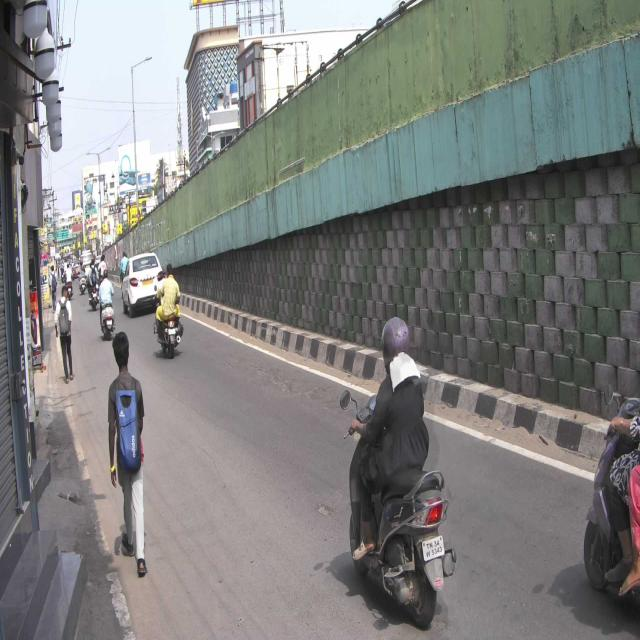single_rider: (344, 314, 456, 627)
